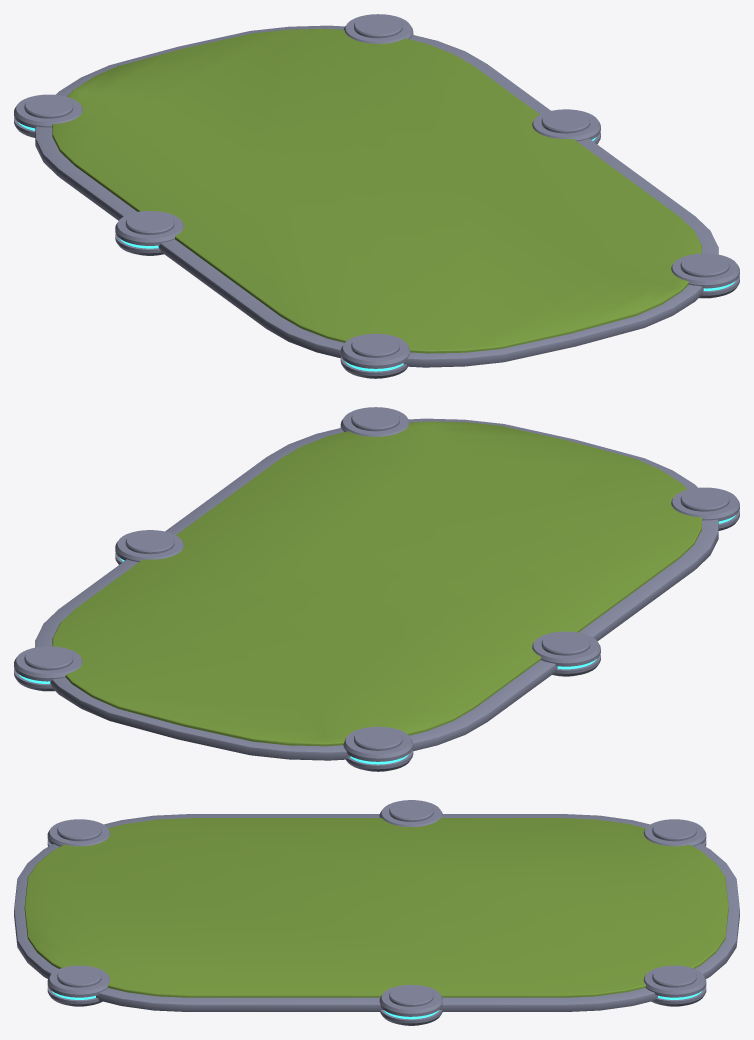
Rendered from Ilot_Hub_01.fbx.
The picture shows the model from 3 angles, top to bottom: view 1: azimuth 30°, elevation 25°; view 2: azimuth 150°, elevation 25°; view 3: azimuth 270°, elevation 25°; orthographic projection. The views are drawn at different scales.
Visible parts, largest first — view 1: Terrain.001, Ilot.001; view 2: Terrain.001, Ilot.001; view 3: Terrain.001, Ilot.001.
Part boxes in pixels (x1=…): Terrain.001: x1=52, y1=28, x2=701, y2=353; Ilot.001: x1=14, y1=14, x2=739, y2=378; Terrain.001: x1=52, y1=421, x2=702, y2=746; Ilot.001: x1=14, y1=407, x2=739, y2=771; Terrain.001: x1=24, y1=818, x2=728, y2=997; Ilot.001: x1=14, y1=800, x2=739, y2=1025.
Size of the model in its own units: 134 by 6.55 by 194.
